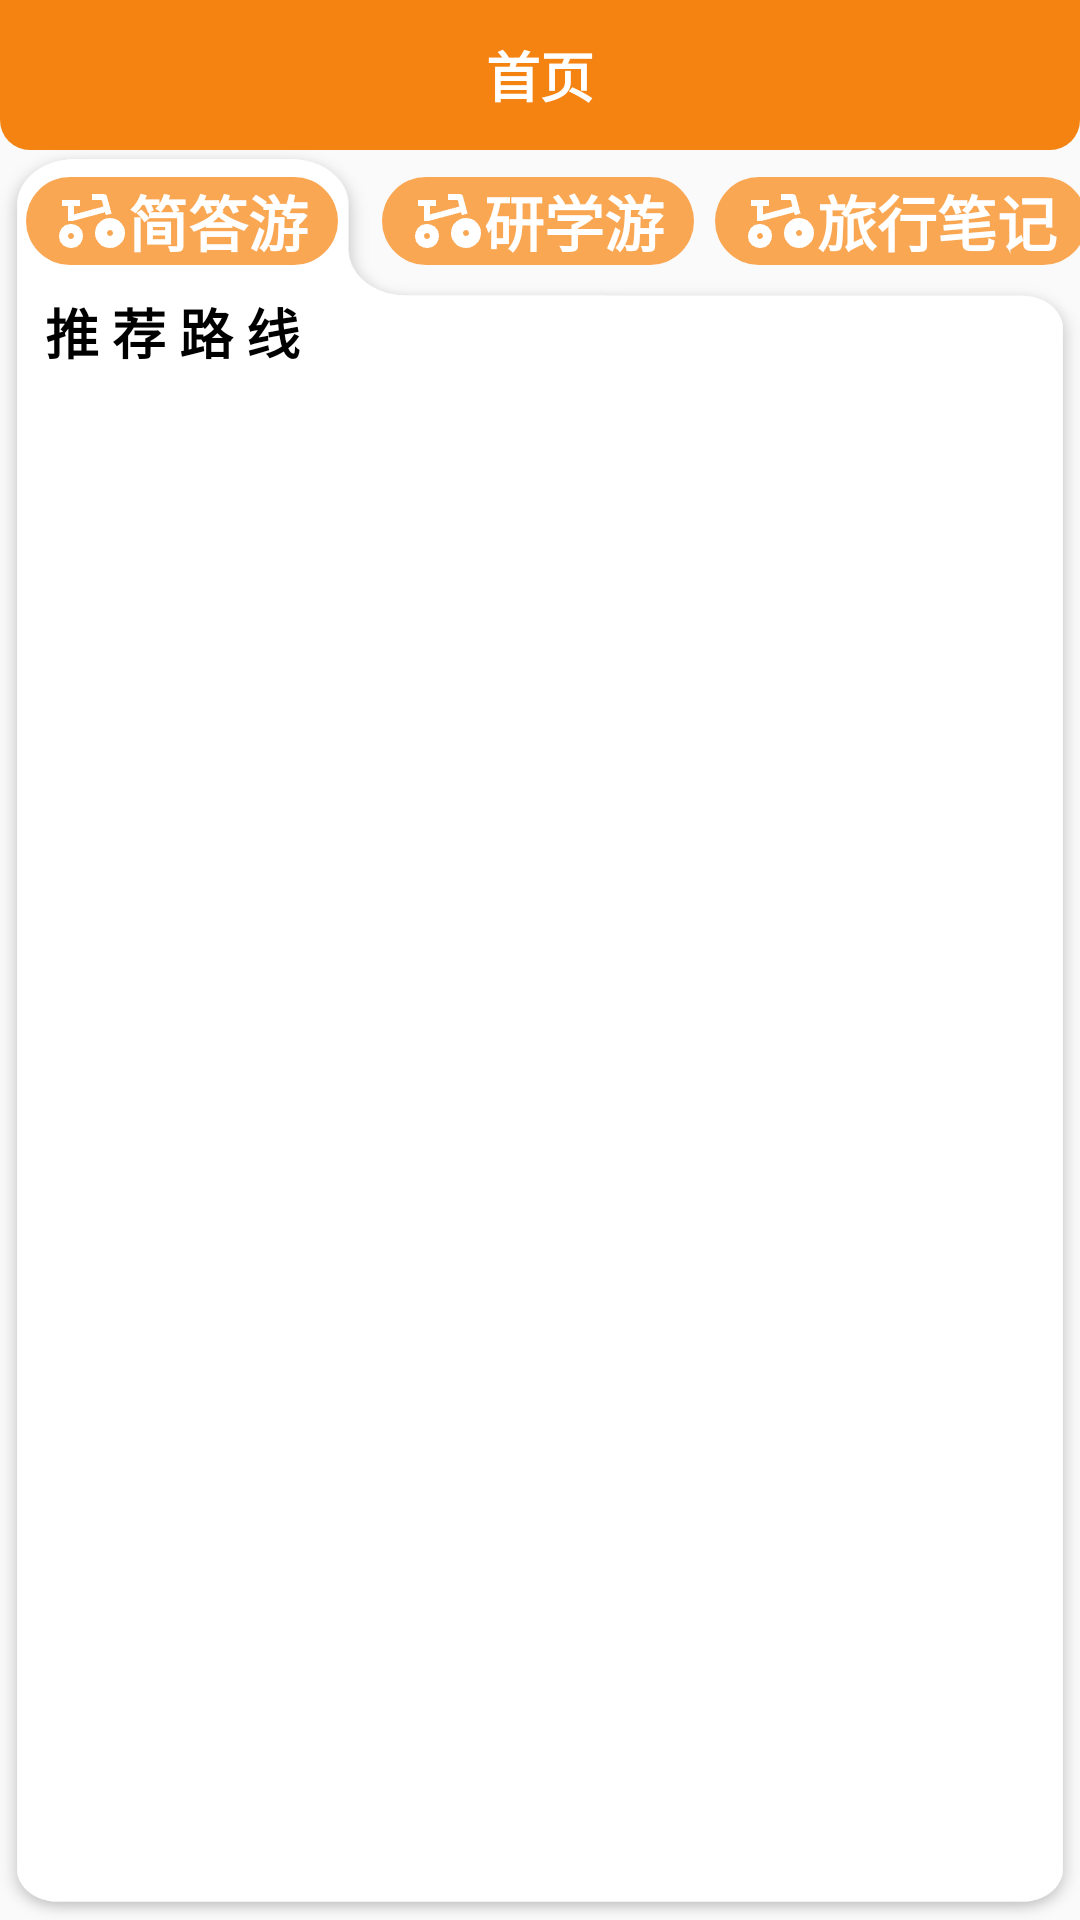

Point at icon controls on the screen. Image size 1080*1920, points as (x=x, y=y).
bike tabl: (x=92, y=221), (x=448, y=221), (x=781, y=221)
